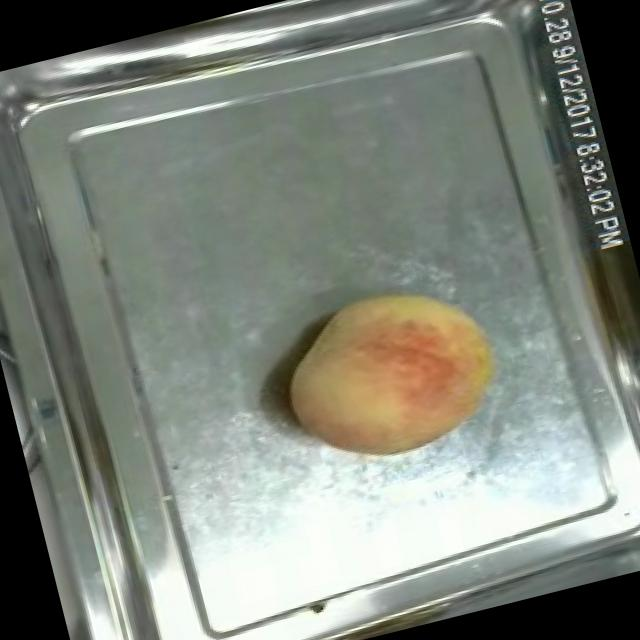Fruit: (262, 258, 524, 484)
